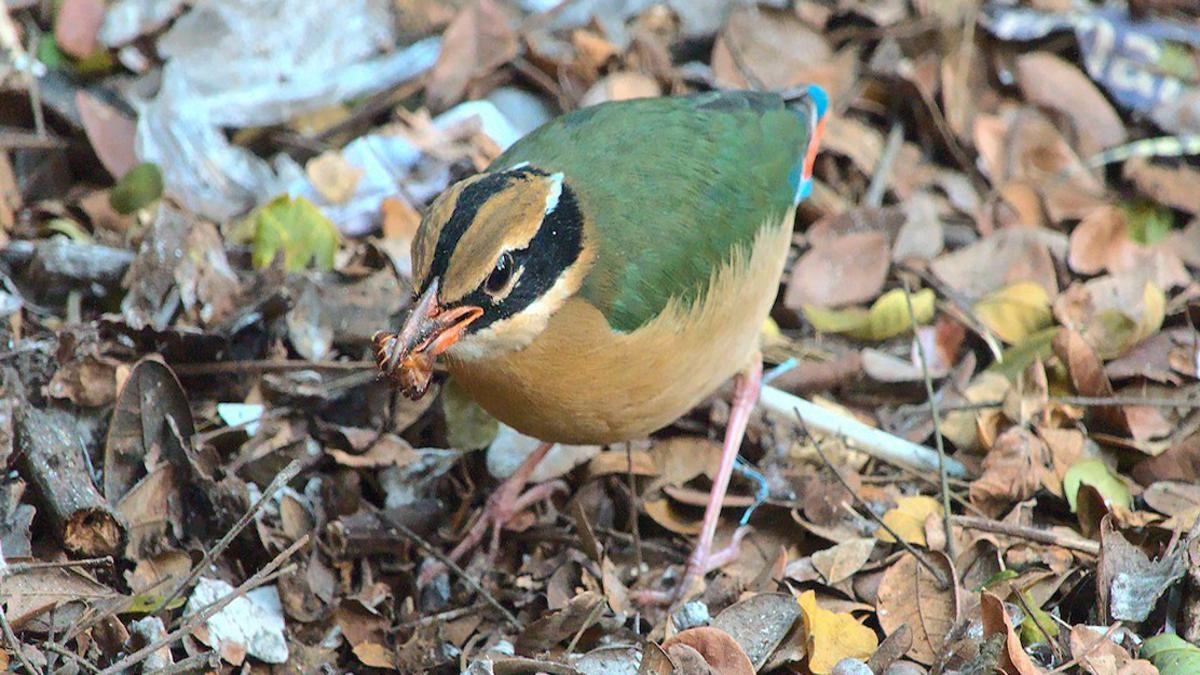pitta: (358, 60, 843, 578)
